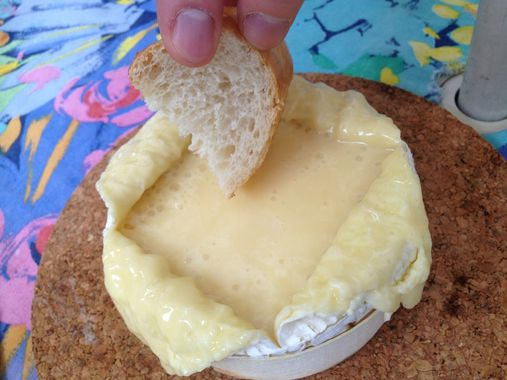camembert: (93, 72, 436, 377)
